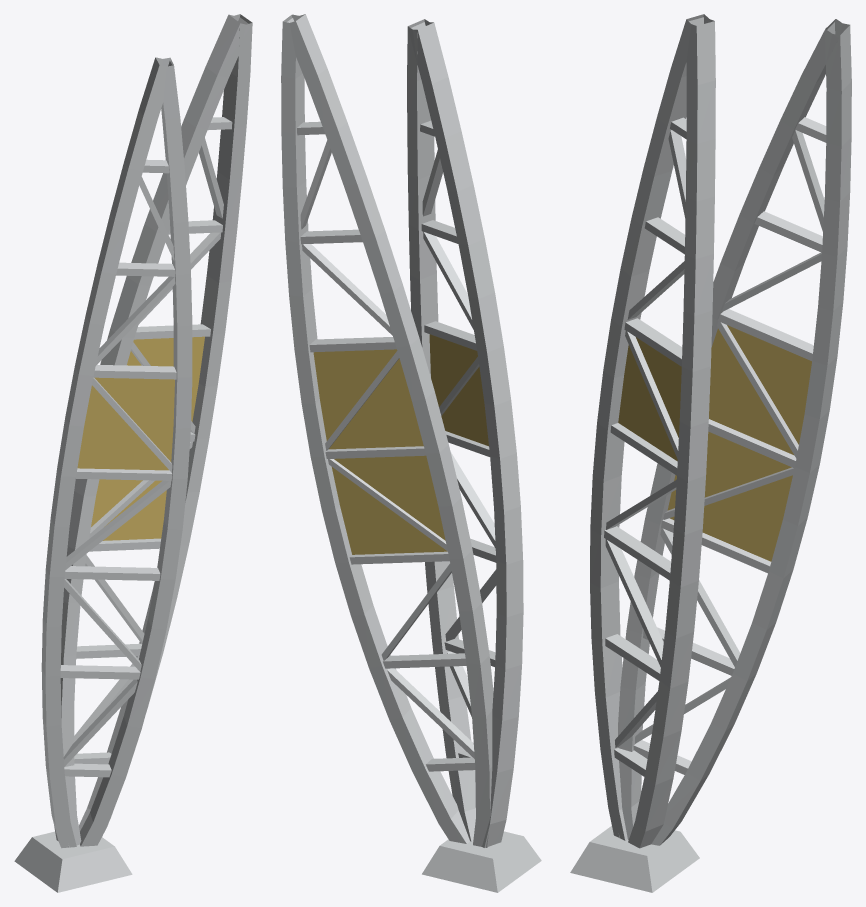
The model's file is ascendus.glb.
3 renders of one model, left to right at view 1: azimuth 30°, elevation 25°; view 2: azimuth 150°, elevation 25°; view 3: azimuth 330°, elevation 25°, orthographic. The views are drawn at different scales.
Visible parts, largest first — view 1: Ascendus; view 2: Ascendus; view 3: Ascendus.
Boxes of the visible parts, x1,y1,x2,y2 form: Ascendus: (14, 14, 252, 892); Ascendus: (281, 14, 541, 892); Ascendus: (570, 14, 851, 892).
Bounding box in the file's own units: 5.29 × 18.48 × 2.33.
